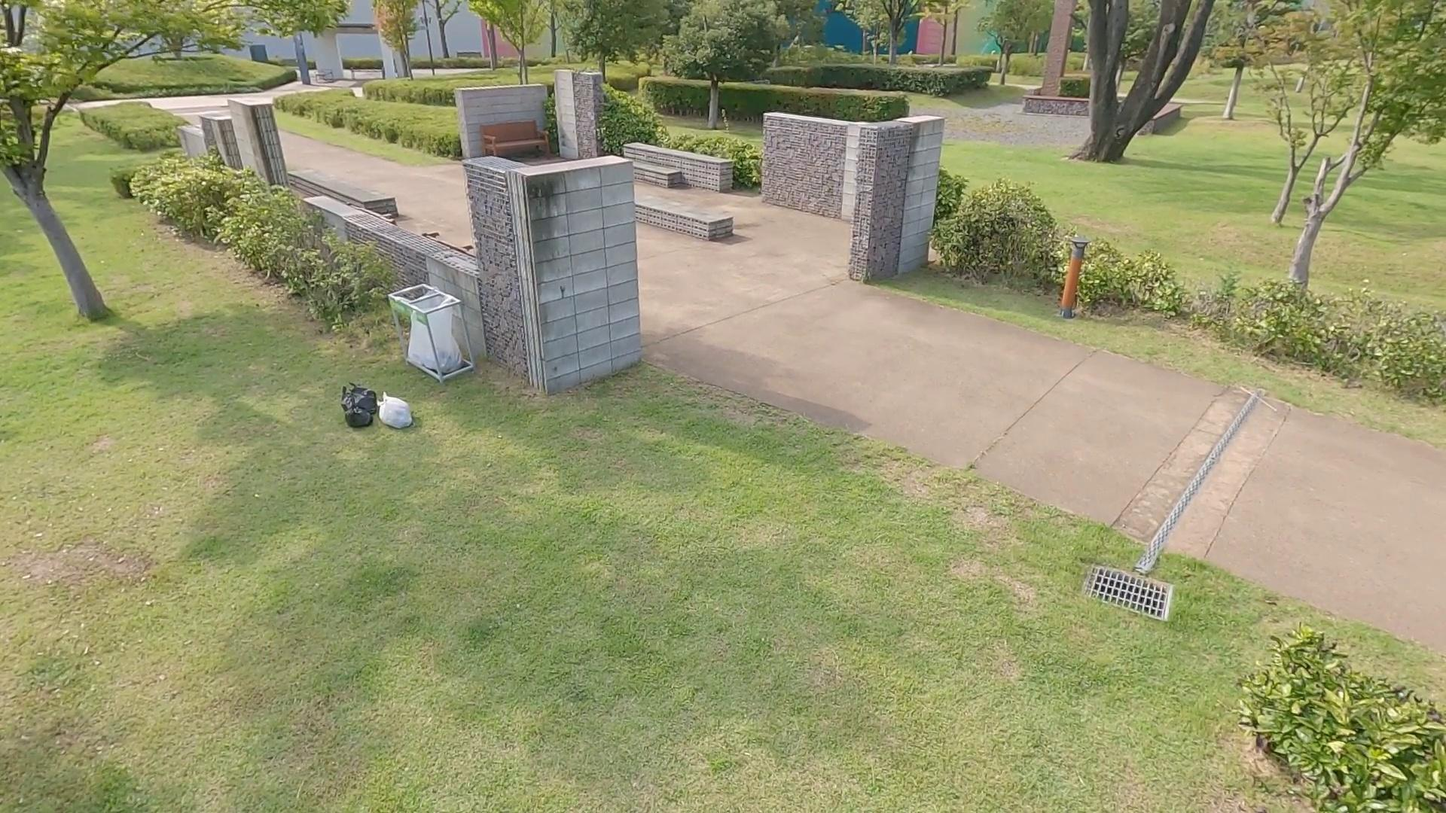trash: (373, 389, 416, 429), (338, 379, 379, 420), (338, 395, 374, 431)
